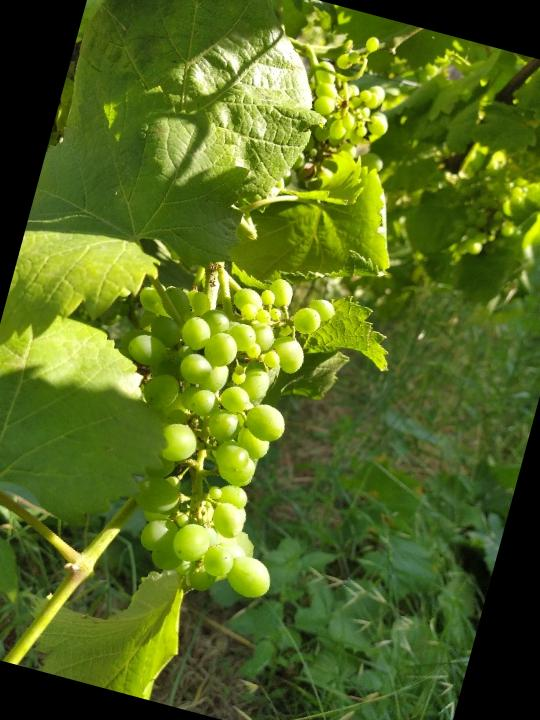grape: (68, 238, 354, 607)
